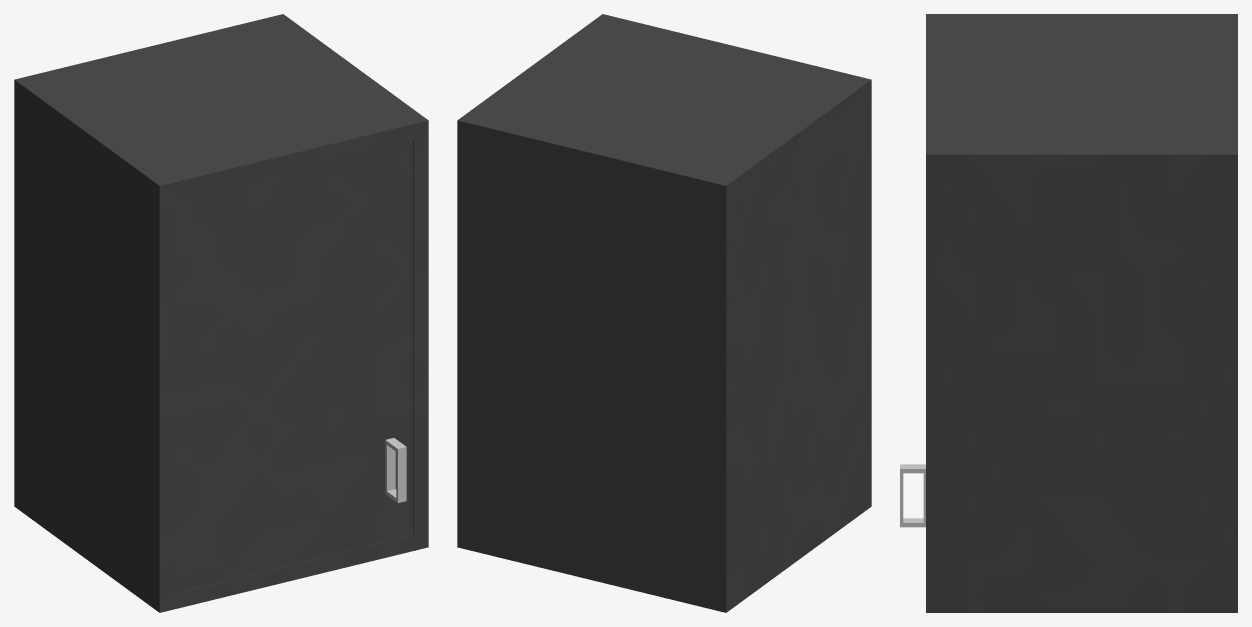
Rendered from Cabinet_03_02.fbx.
3 views of the same model, side by side, from view 1: azimuth 30°, elevation 25°; view 2: azimuth 150°, elevation 25°; view 3: azimuth 270°, elevation 25° (orthographic). The views are drawn at different scales.
Visible parts, largest first — view 1: Cabinet_03_02, Cabinet_03_Door; view 2: Cabinet_03_02; view 3: Cabinet_03_02, Cabinet_03_Door.
Boxes of the visible parts, bbox=[...] form: Cabinet_03_02: bbox=[14, 14, 428, 612]; Cabinet_03_Door: bbox=[174, 140, 412, 592]; Cabinet_03_02: bbox=[457, 14, 871, 612]; Cabinet_03_02: bbox=[926, 14, 1237, 612]; Cabinet_03_Door: bbox=[900, 464, 925, 527].
Bounding box in the file's own units: 0.5858 × 0.889 × 0.5941.
